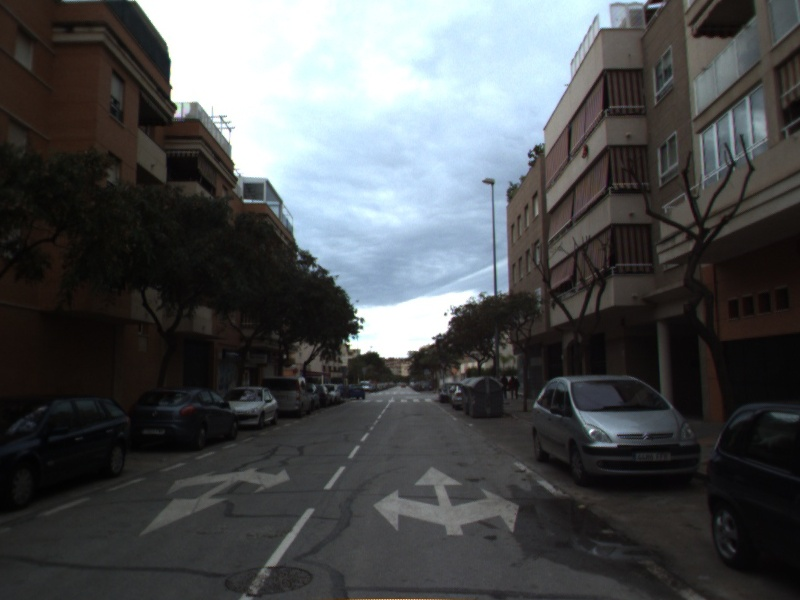STRAIGHT_LEFT_RIGHT: (370, 464, 522, 537)
